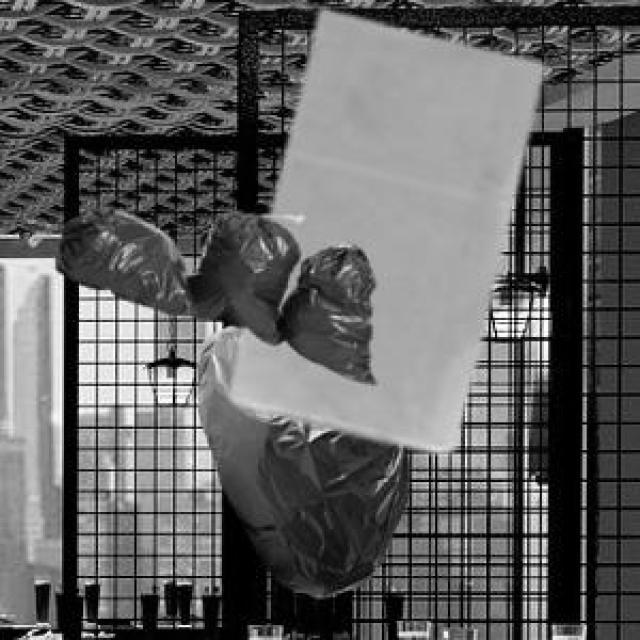miscellaneous trash: (194, 320, 403, 593), (51, 205, 372, 380)
paper: (226, 6, 540, 448)
